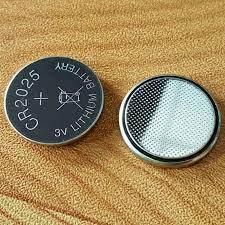COIN: (116, 72, 224, 171), (2, 55, 107, 148)
